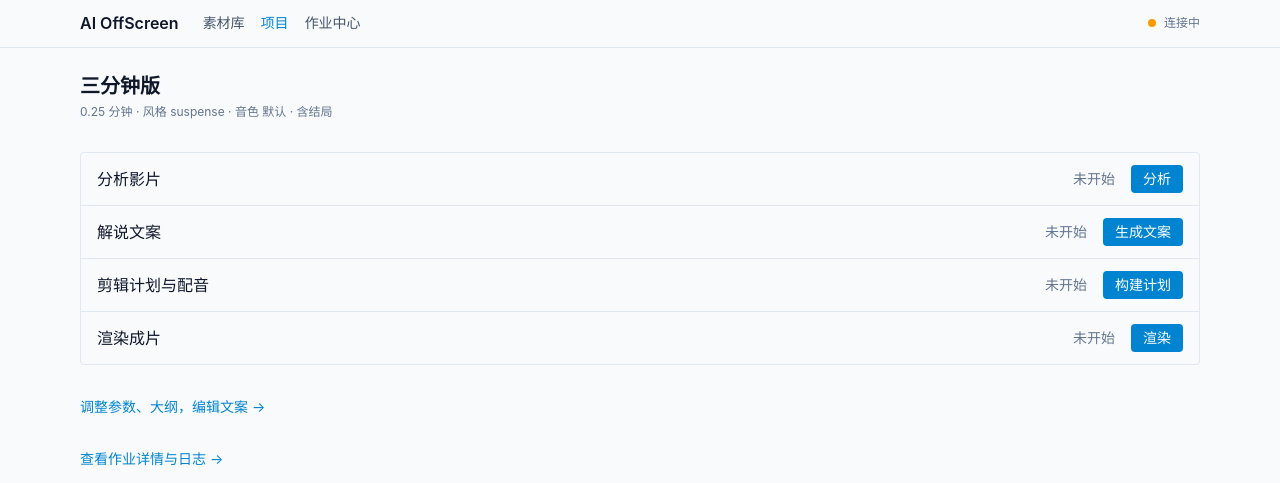
Test case: project page › the creation.script button queues that step
The width and height of the screenshot is (1280, 483).
Click the button "生成文案": click(1143, 232) x1=1103 y1=218 x2=1183 y2=246
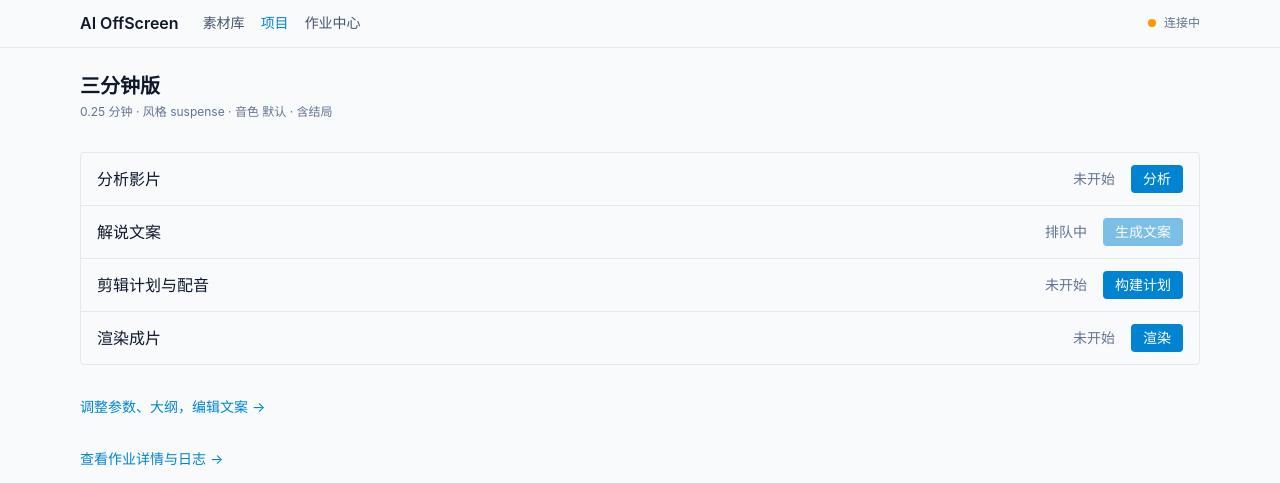
Result: the list item "解说文案" shows "排队中" at x1=1045 y1=223 x2=1087 y2=240
Result: the button "生成文案" is disabled at x1=1103 y1=218 x2=1183 y2=246
